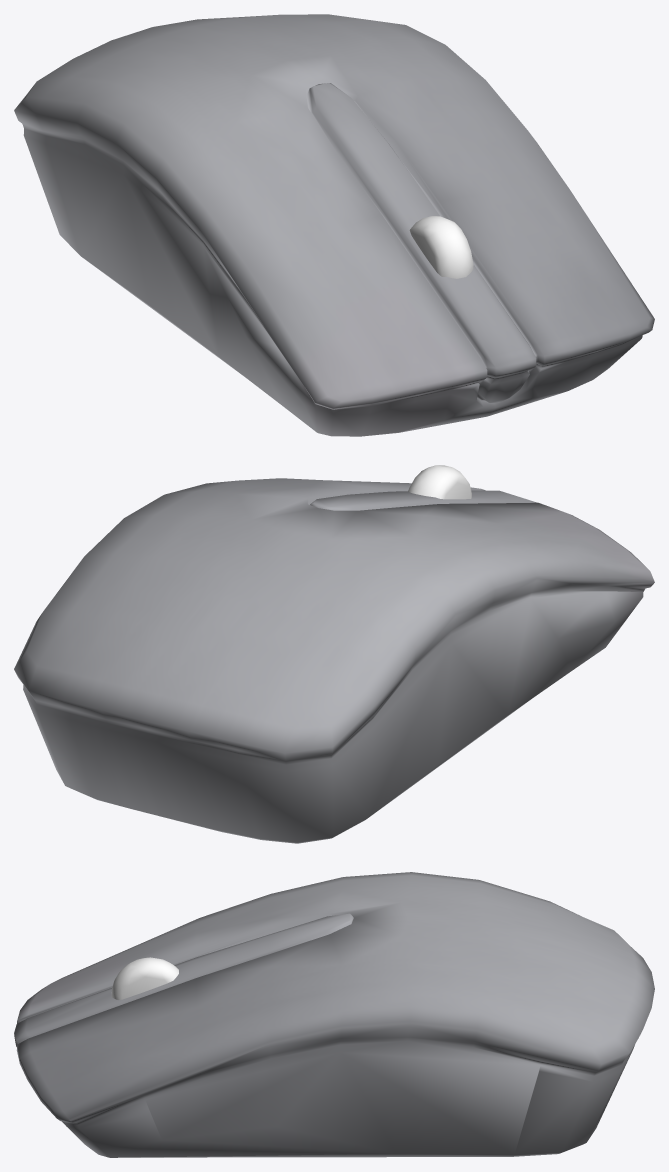
The model's file is 滑鼠(reduce).fbx.
The picture shows the model from 3 angles, top to bottom: view 1: azimuth 30°, elevation 25°; view 2: azimuth 150°, elevation 25°; view 3: azimuth 270°, elevation 25°; orthographic projection. The views are drawn at different scales.
Parts seen in each view (by area): view 1: Box001, Cylinder001; view 2: Box001, Cylinder001; view 3: Box001, Cylinder001.
Part boxes in pixels (x1,y1,x2,y2): Box001: (14, 14, 654, 436); Cylinder001: (409, 216, 473, 278); Box001: (14, 478, 654, 843); Cylinder001: (408, 465, 471, 499); Box001: (14, 872, 654, 1157); Cylinder001: (111, 957, 178, 999).
Bounding box in the file's own units: 5.92 × 3.54 × 11.32.
Materials: 2 (2 with a texture image).
